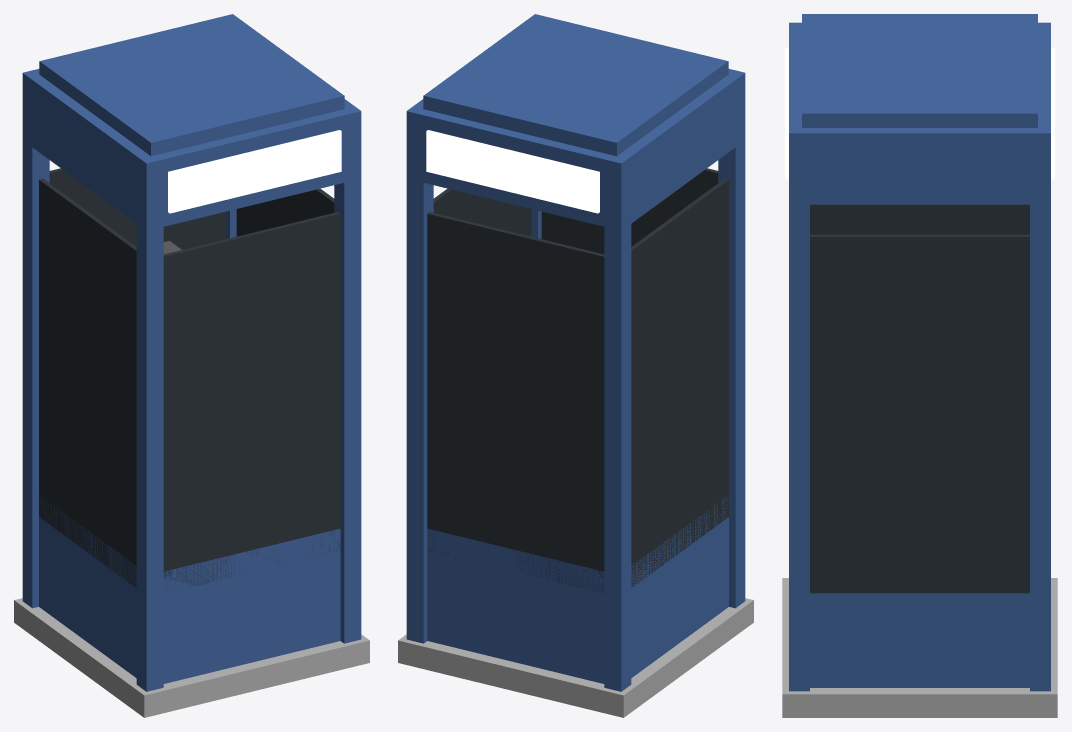
The model's file is PhoneBooth.glb.
3 renders of one model, left to right at view 1: azimuth 30°, elevation 25°; view 2: azimuth 150°, elevation 25°; view 3: azimuth 270°, elevation 25°, orthographic. The views are drawn at different scales.
Visible parts, largest first — view 1: PhoneBooth_cube.009, PhoneBooth_cube.013, PhoneBooth_cube.008, PhoneBooth_cube.010, PhoneBooth_cube.005, PhoneBooth_cube.001, PhoneBooth_cube, PhoneBooth_cube.003, PhoneBooth_cube.014, PhoneBooth_cube.002, PhoneBooth_cube.006, PhoneBooth_cube.011 (+1 smaller); view 2: PhoneBooth_cube.011, PhoneBooth_cube.013, PhoneBooth_cube.008, PhoneBooth_cube.012, PhoneBooth_cube.005, PhoneBooth_cube.002, PhoneBooth_cube, PhoneBooth_cube.004, PhoneBooth_cube.014, PhoneBooth_cube.001, PhoneBooth_cube.007, PhoneBooth_cube.009 (+1 smaller); view 3: PhoneBooth_cube.015, PhoneBooth_cube.008, PhoneBooth_cube.005, PhoneBooth_cube.016, PhoneBooth_cube.003, PhoneBooth_cube.004, PhoneBooth_cube, PhoneBooth_cube.013, PhoneBooth_cube.006, PhoneBooth_cube.007.
Boxes of the visible parts, x1=… form: PhoneBooth_cube.009: x1=163, y1=212, x2=340, y2=592; PhoneBooth_cube.013: x1=39, y1=178, x2=136, y2=587; PhoneBooth_cube.008: x1=39, y1=14, x2=344, y2=156; PhoneBooth_cube.010: x1=163, y1=528, x2=340, y2=683; PhoneBooth_cube.005: x1=22, y1=69, x2=361, y2=228; PhoneBooth_cube.001: x1=136, y1=213, x2=163, y2=691; PhoneBooth_cube: x1=14, y1=598, x2=369, y2=717; PhoneBooth_cube.003: x1=334, y1=167, x2=361, y2=643; PhoneBooth_cube.014: x1=39, y1=496, x2=136, y2=677; PhoneBooth_cube.002: x1=22, y1=129, x2=49, y2=608; PhoneBooth_cube.006: x1=168, y1=130, x2=341, y2=213; PhoneBooth_cube.011: x1=49, y1=168, x2=226, y2=249; PhoneBooth_cube.011: x1=427, y1=212, x2=604, y2=593; PhoneBooth_cube.013: x1=631, y1=178, x2=728, y2=587; PhoneBooth_cube.008: x1=423, y1=14, x2=728, y2=156; PhoneBooth_cube.012: x1=427, y1=528, x2=604, y2=683; PhoneBooth_cube.005: x1=406, y1=69, x2=745, y2=229; PhoneBooth_cube.002: x1=604, y1=213, x2=631, y2=691; PhoneBooth_cube: x1=398, y1=598, x2=753, y2=717; PhoneBooth_cube.004: x1=406, y1=167, x2=433, y2=643; PhoneBooth_cube.014: x1=631, y1=496, x2=728, y2=677; PhoneBooth_cube.001: x1=718, y1=129, x2=745, y2=608; PhoneBooth_cube.007: x1=426, y1=130, x2=599, y2=213; PhoneBooth_cube.009: x1=541, y1=168, x2=718, y2=254; PhoneBooth_cube.015: x1=810, y1=234, x2=1029, y2=593; PhoneBooth_cube.008: x1=802, y1=14, x2=1037, y2=127; PhoneBooth_cube.005: x1=789, y1=22, x2=1050, y2=204; PhoneBooth_cube.016: x1=810, y1=593, x2=1029, y2=687; PhoneBooth_cube.003: x1=789, y1=192, x2=809, y2=691; PhoneBooth_cube.004: x1=1030, y1=192, x2=1050, y2=691; PhoneBooth_cube: x1=782, y1=578, x2=1057, y2=717; PhoneBooth_cube.013: x1=810, y1=204, x2=1029, y2=234; PhoneBooth_cube.006: x1=785, y1=48, x2=788, y2=179; PhoneBooth_cube.007: x1=1051, y1=48, x2=1054, y2=179.
Size of the model in its own units: 1.05 by 2.51 by 1.05.
